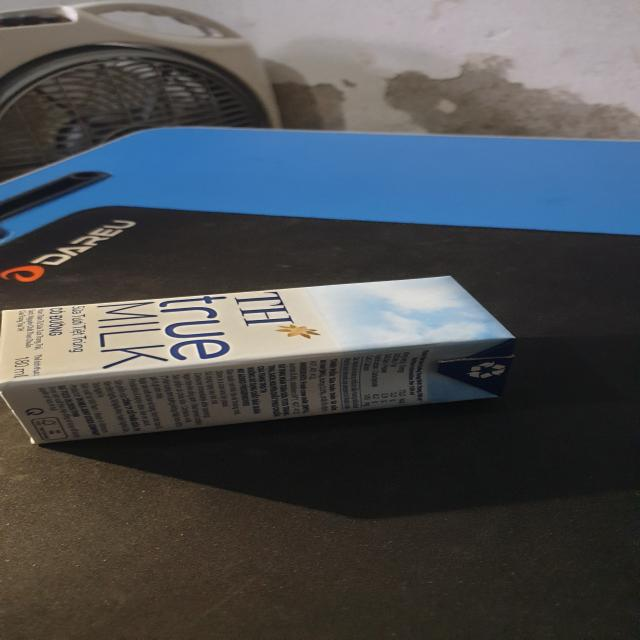TH: (4, 272, 526, 449)
